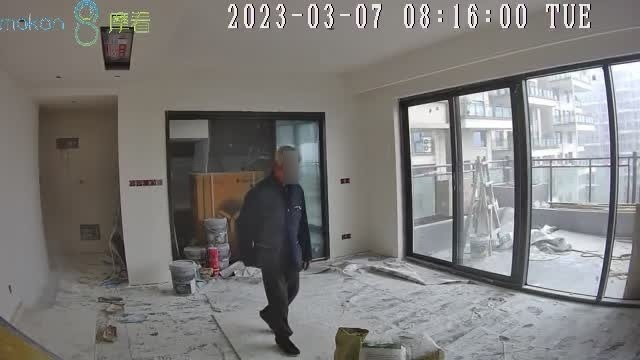people: (236, 145, 310, 355)
window: (402, 59, 640, 303)
